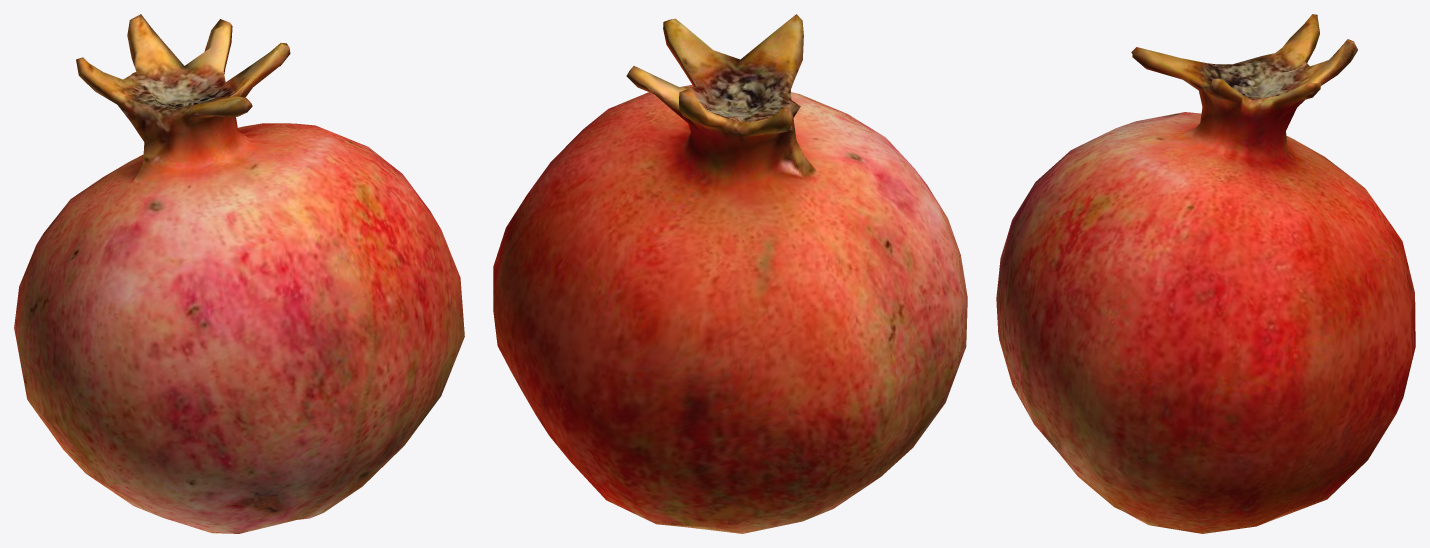
File: pomegranate_scan_lowpoly.glb
3 renders of one model, left to right at view 1: azimuth 30°, elevation 25°; view 2: azimuth 150°, elevation 25°; view 3: azimuth 270°, elevation 25°, orthographic. The views are drawn at different scales.
Parts seen in each view (by area): view 1: Pomegranate; view 2: Pomegranate; view 3: Pomegranate.
Part boxes in pixels (left/top/right/bottom): Pomegranate: left=14, top=14, right=464, bottom=533; Pomegranate: left=493, top=14, right=967, bottom=533; Pomegranate: left=996, top=14, right=1415, bottom=533.
Size of the model in its own units: 0.5396 by 0.6098 by 0.5107.
Materials: 1 (1 with a texture image).
